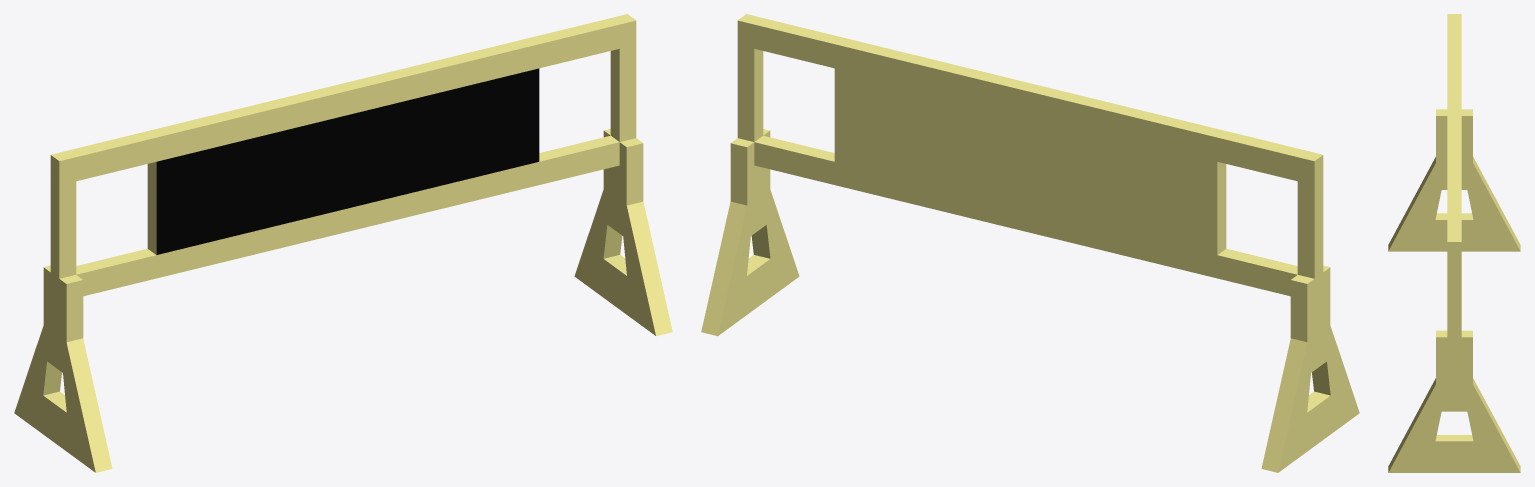
The model's file is Fence.fbx.
3 renders of one model, left to right at view 1: azimuth 30°, elevation 25°; view 2: azimuth 150°, elevation 25°; view 3: azimuth 270°, elevation 25°, orthographic. The views are drawn at different scales.
Visible parts, largest first — view 1: Fence; view 2: Fence; view 3: Fence.
Part boxes in pixels (x1,y1,x2,y2): Fence: [14, 14, 672, 472]; Fence: [701, 14, 1359, 472]; Fence: [1388, 14, 1520, 472].
Size of the model in its own units: 205 by 96.84 by 50.29.
Materials: 1 (1 with a texture image).
